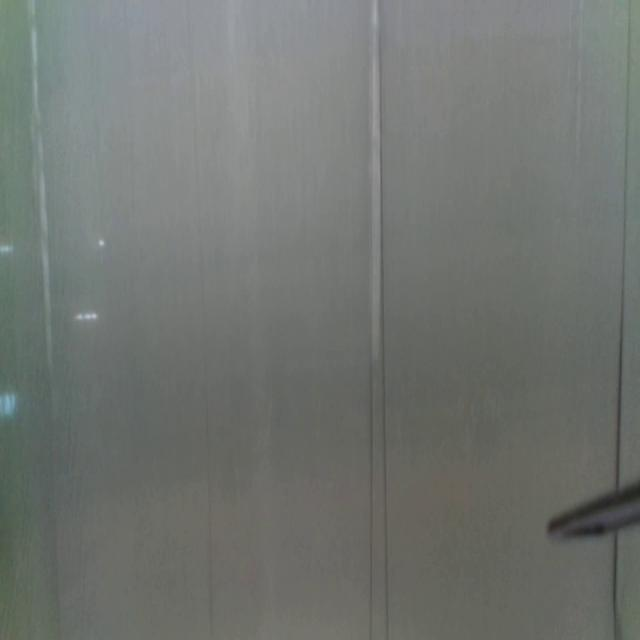crease: (186, 4, 213, 640), (614, 0, 633, 486), (377, 2, 390, 632), (366, 4, 376, 636), (572, 1, 586, 174), (611, 527, 619, 640)
